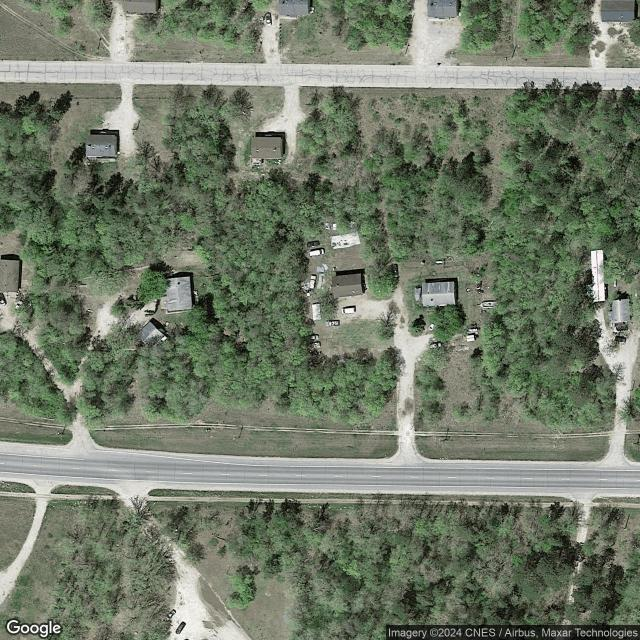Propane: (612, 279, 618, 288), (435, 260, 443, 265)
